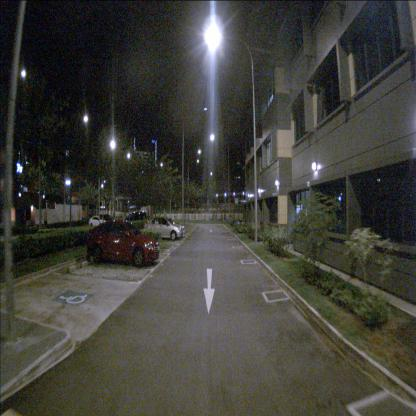human-pedestrian-adult: (25, 203, 32, 235)
vehicle-car: (86, 220, 160, 267), (142, 218, 184, 240), (125, 211, 147, 224), (89, 215, 108, 228), (99, 214, 115, 225)
